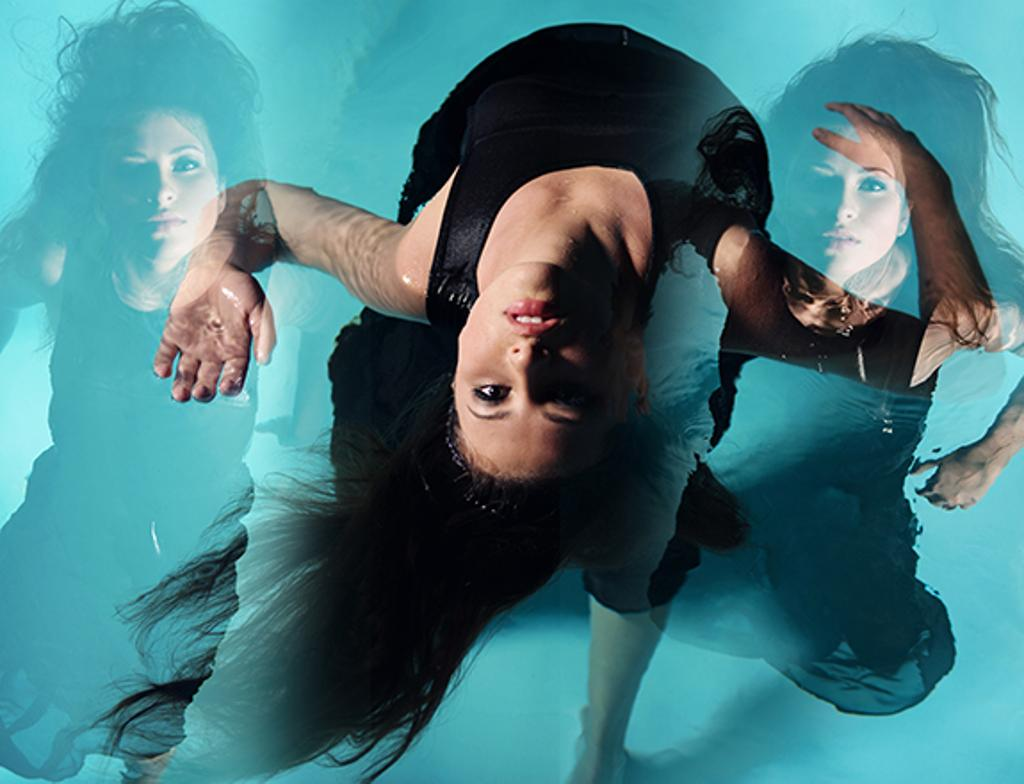face: (458, 266, 612, 482), (786, 106, 904, 296), (92, 112, 216, 274)
